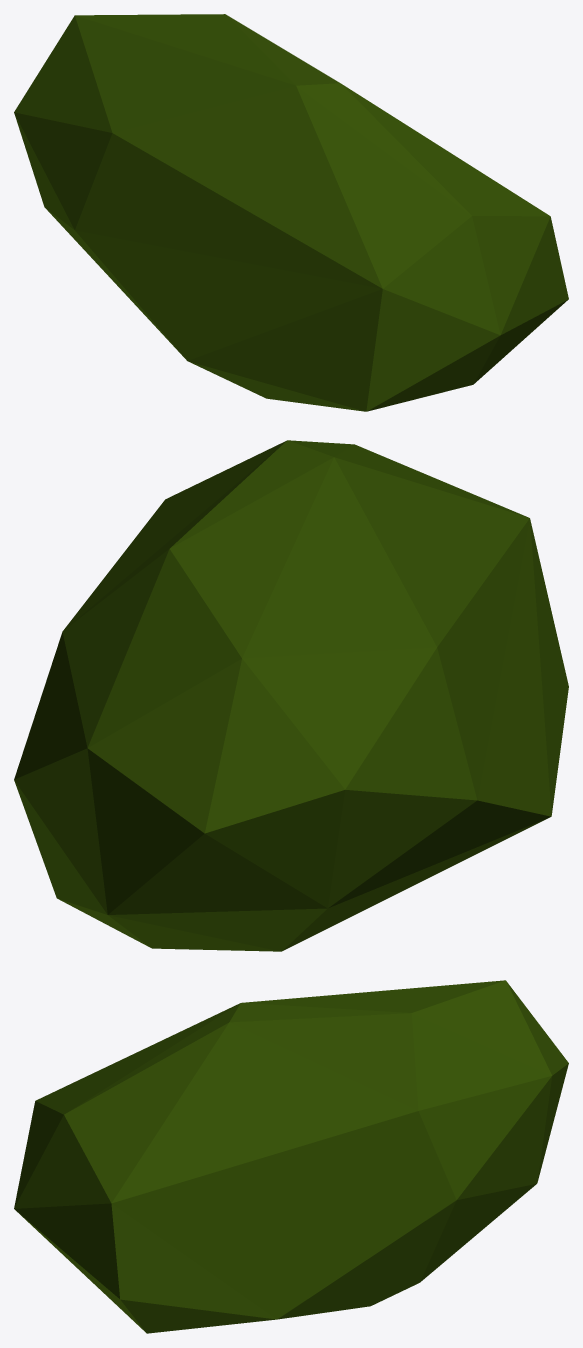
Rendered from Bush.004.fbx.
3 renders of one model, top to bottom at view 1: azimuth 30°, elevation 25°; view 2: azimuth 150°, elevation 25°; view 3: azimuth 270°, elevation 25°, orthographic. The views are drawn at different scales.
Visible parts, largest first — view 1: Bush.004; view 2: Bush.004; view 3: Bush.004.
Boxes of the visible parts, x1=… form: Bush.004: x1=14, y1=14, x2=568, y2=411; Bush.004: x1=14, y1=440, x2=568, y2=951; Bush.004: x1=14, y1=980, x2=568, y2=1333.
Bounding box in the file's own units: 0.7068 × 0.5488 × 0.9915.
